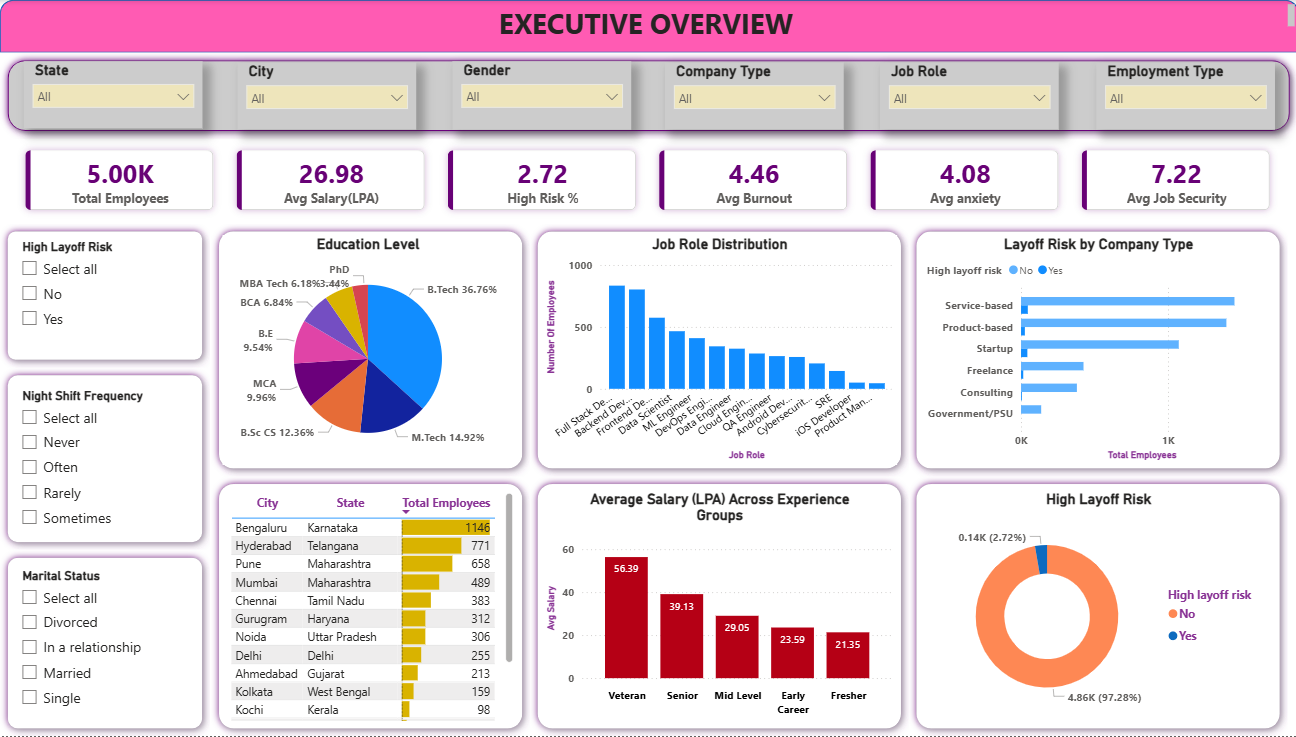

This screenshot's page, from the dashboard's own definition file:
{"tool":"powerbi","page":{"name":"Page 1","canvas":[1500,850],"ordinal":0},"visuals":[{"type":"shape","box":[0,0,1499.9,60.6],"z":0},{"type":"textbox","box":[0,0,1499.9,49.1],"z":1000},{"type":"cardVisual","fields":{"Data":["public developer_burnout_data.Total Employees","public developer_burnout_data.Avg Salary","public developer_burnout_data.High Risk %","public developer_burnout_data.Avg Burnout","public developer_burnout_data.Avg anxiety","public developer_burnout_data.Avg Job Security"]},"box":[1.4,145.8,1498.5,125.6],"z":2000},{"type":"shape","box":[1049.5,258.4,437.4,291.6],"z":3000},{"type":"shape","box":[1049.5,550,437.4,300.3],"z":4000},{"type":"donutChart","title":"High Layoff Risk","fields":{"Category":["public developer_burnout_data.high_layoff_risk"],"Y":["public developer_burnout_data.Total Employees"]},"box":[1065.4,565.9,407.1,271.4],"z":5000},{"type":"shape","box":[612.1,550,437.4,300.3],"z":6000},{"type":"clusteredBarChart","title":"Layoff Risk by Company Type","fields":{"Category":["public developer_burnout_data.company_type"],"Y":["public developer_burnout_data.Total Employees"],"Series":["public developer_burnout_data.high_layoff_risk"]},"box":[1065.4,271.4,407.1,265.6],"z":7000},{"type":"shape","box":[0,60.6,1498.5,99.6],"z":8000},{"type":"clusteredColumnChart","title":"Average Salary (LPA) Across Experience Groups","fields":{"Category":["public developer_burnout_data.Experience Group"],"Y":["public developer_burnout_data.Avg Salary"]},"box":[626.5,565.9,410,268.5],"z":9000},{"type":"shape","box":[612.1,258.4,437.4,291.6],"z":10000},{"type":"clusteredColumnChart","title":"Job Role Distribution","fields":{"Category":["public developer_burnout_data.job_role"],"Y":["public developer_burnout_data.Total Employees"]},"box":[626.5,271.4,410,265.6],"z":11000},{"type":"shape","box":[244,550,368.1,300.3],"z":12000},{"type":"tableEx","fields":{"Values":["public developer_burnout_data.city","public developer_burnout_data.state","public developer_burnout_data.Total Employees"]},"box":[261.3,564.5,336.4,272.8],"z":13000},{"type":"slicer","fields":{"Values":["public developer_burnout_data.state"]},"box":[27.4,70.7,206.4,78],"z":14000},{"type":"slicer","fields":{"Values":["public developer_burnout_data.city"]},"box":[274.3,72.2,206.4,78],"z":15000},{"type":"slicer","fields":{"Values":["public developer_burnout_data.gender"]},"box":[522.6,70.7,206.4,79.4],"z":16000},{"type":"slicer","fields":{"Values":["public developer_burnout_data.company_type"]},"box":[768,72.2,206.4,78],"z":17000},{"type":"slicer","fields":{"Values":["public developer_burnout_data.job_role"]},"box":[1016.3,72.2,206.4,78],"z":18000},{"type":"slicer","fields":{"Values":["public developer_burnout_data.employment_type"]},"box":[1266.1,72.2,206.4,78],"z":19000},{"type":"shape","box":[0,424.4,242.5,210.8],"z":20000},{"type":"shape","box":[244,258.4,368.1,291.6],"z":21000},{"type":"pieChart","title":"Education Level","fields":{"Category":["public developer_burnout_data.education_level"],"Y":["public developer_burnout_data.Total Employees"]},"box":[257,271.4,336.4,265.6],"z":22000},{"type":"slicer","fields":{"Values":["public developer_burnout_data.night_shift_frequency"]},"box":[13,443.2,216.5,174.7],"z":23000},{"type":"shape","box":[0,635.2,242.5,215.1],"z":24000},{"type":"slicer","fields":{"Values":["public developer_burnout_data.marital_status"]},"box":[13,651.1,216.5,183.3],"z":25000},{"type":"shape","box":[0,258.4,242.5,166],"z":26000},{"type":"slicer","fields":{"Values":["public developer_burnout_data.high_layoff_risk"]},"box":[13,271.4,216.5,132.8],"z":27000}]}

Visuals, with their boxes in screenshot pixels (x1, y1, x2, y2), scaled from the page's 1500x850 canvas onto the 1296x737 screenshot:
shape: bbox=[0, 0, 1295, 53]
textbox: bbox=[0, 0, 1295, 43]
cardVisual - public developer_burnout_data.Total Employees x public developer_burnout_data.Avg Salary: bbox=[1, 126, 1295, 235]
shape: bbox=[907, 224, 1285, 477]
shape: bbox=[907, 477, 1285, 736]
"High Layoff Risk" donutChart: bbox=[921, 491, 1272, 726]
shape: bbox=[529, 477, 907, 736]
"Layoff Risk by Company Type" clusteredBarChart: bbox=[921, 235, 1272, 466]
shape: bbox=[0, 53, 1295, 139]
"Average Salary (LPA) Across Experience Groups" clusteredColumnChart: bbox=[541, 491, 896, 723]
shape: bbox=[529, 224, 907, 477]
"Job Role Distribution" clusteredColumnChart: bbox=[541, 235, 896, 466]
shape: bbox=[211, 477, 529, 736]
tableEx - public developer_burnout_data.city x public developer_burnout_data.state: bbox=[226, 489, 516, 726]
slicer - public developer_burnout_data.state: bbox=[24, 61, 202, 129]
slicer - public developer_burnout_data.city: bbox=[237, 63, 415, 130]
slicer - public developer_burnout_data.gender: bbox=[452, 61, 630, 130]
slicer - public developer_burnout_data.company_type: bbox=[664, 63, 842, 130]
slicer - public developer_burnout_data.job_role: bbox=[878, 63, 1056, 130]
slicer - public developer_burnout_data.employment_type: bbox=[1094, 63, 1272, 130]
shape: bbox=[0, 368, 210, 551]
shape: bbox=[211, 224, 529, 477]
"Education Level" pieChart: bbox=[222, 235, 513, 466]
slicer - public developer_burnout_data.night_shift_frequency: bbox=[11, 384, 198, 536]
shape: bbox=[0, 551, 210, 736]
slicer - public developer_burnout_data.marital_status: bbox=[11, 565, 198, 723]
shape: bbox=[0, 224, 210, 368]
slicer - public developer_burnout_data.high_layoff_risk: bbox=[11, 235, 198, 350]
